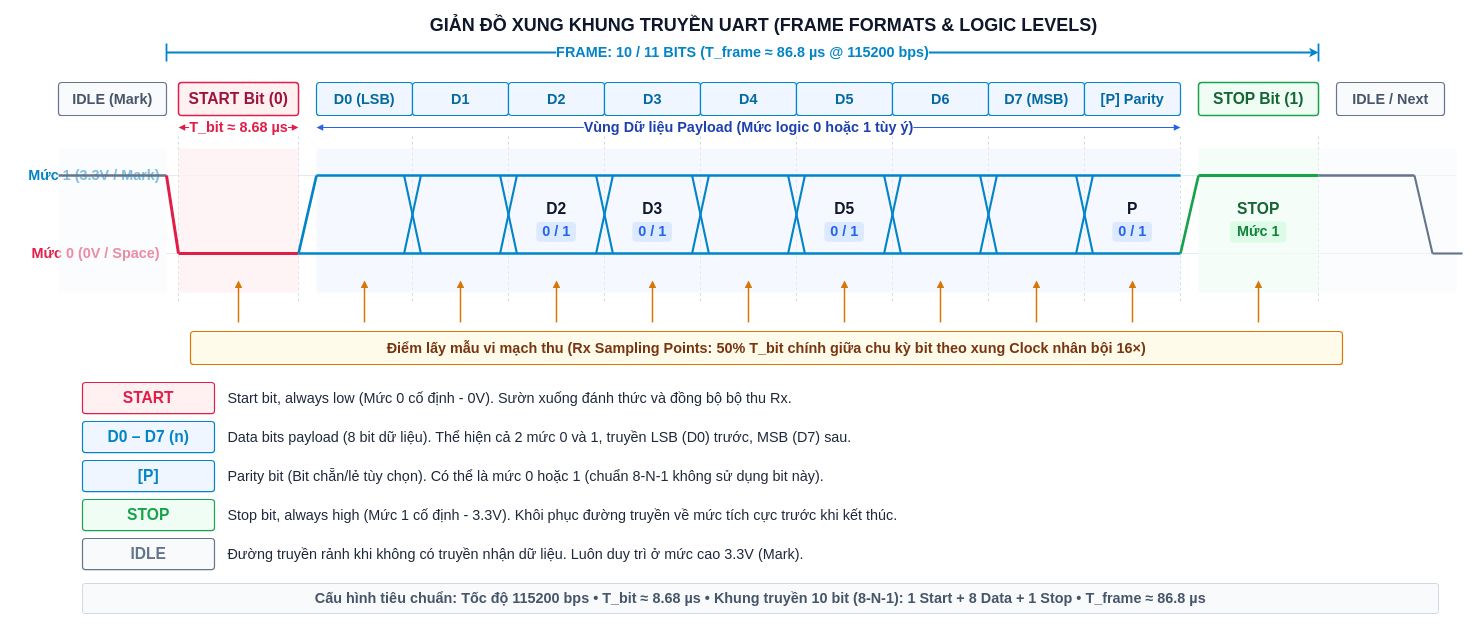
This 1474x624 diagram has some shape labels left out. Each missing label, with the centre of its shape:
(St / IDLE): point (1387, 220)
D0 (LSB) 0 / 1: point (364, 220)
D1 0 / 1: point (460, 220)
D4 0 / 1: point (748, 220)
D6 0 / 1: point (940, 220)
D7 (MSB) 0 / 1: point (1036, 220)
START Mức 0: point (238, 220)
